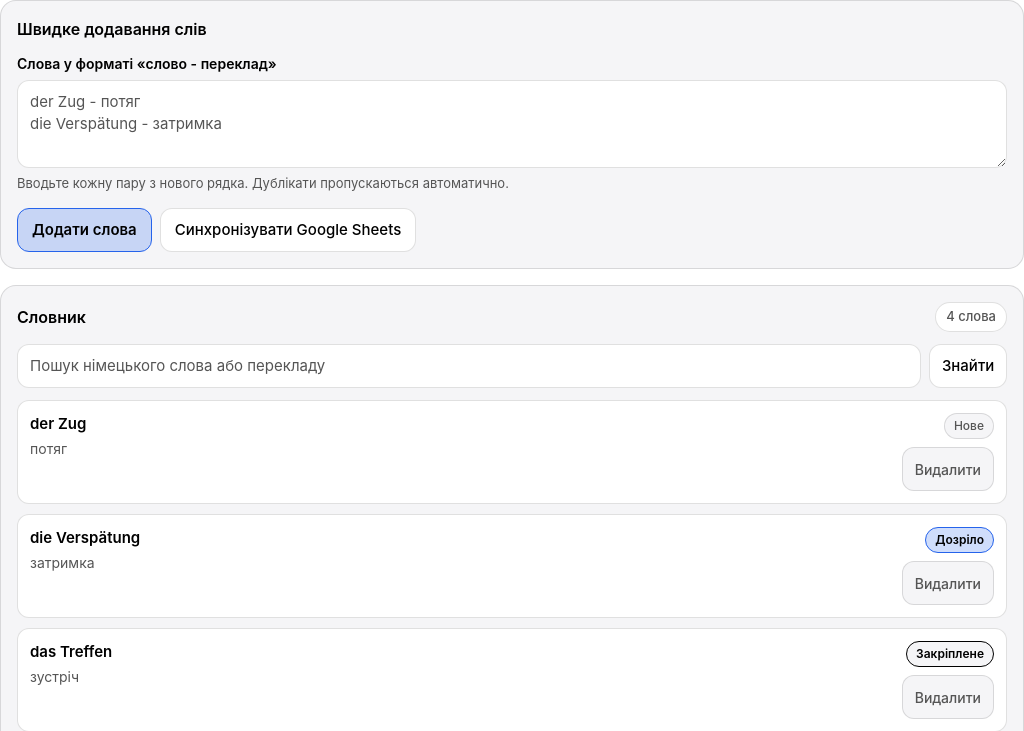
Test case: DictionaryPage › requires confirmation before deleting a word and handles delete success and error safely
Expected: the text "die Verspätung" is shown, left=30, top=527, right=140, bottom=550
Clicking Delete opens confirmation without sending DELETE yet
Click the button with aria-label "Видалити слово «die Verspätung»" at (948, 583), box left=902, top=561, right=994, bottom=605
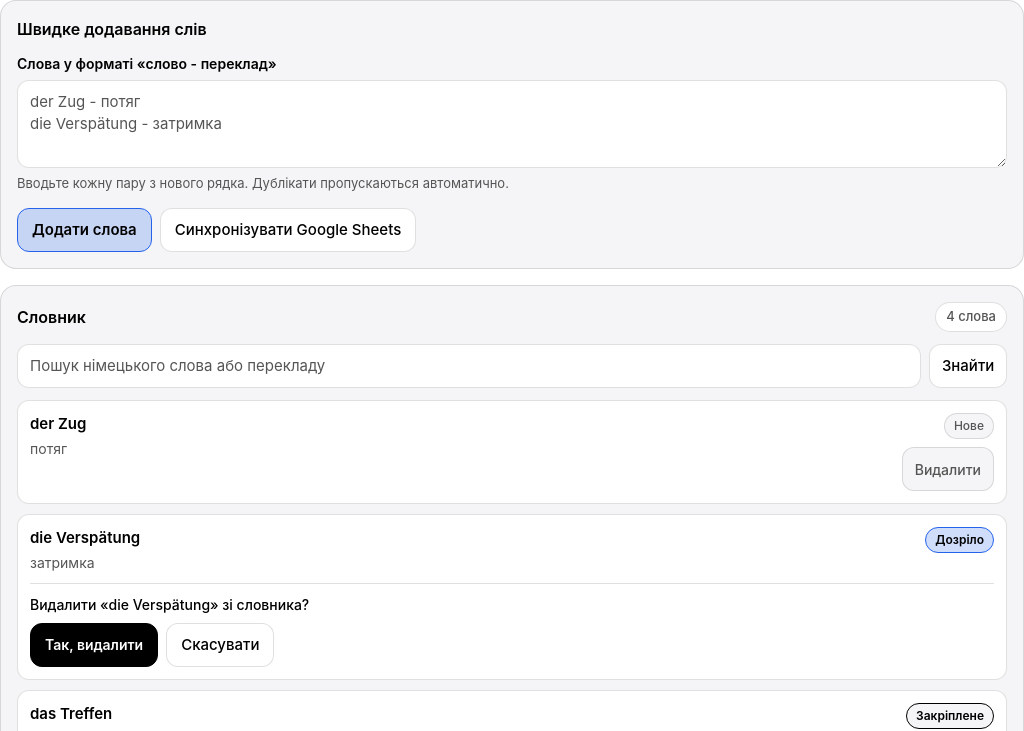
Expected: the text "Видалити «die Verspätung» зі словника?" is shown, left=30, top=596, right=309, bottom=612
Cancel closes confirmation without deleting
Click the button "Скасувати" at (220, 645), box left=166, top=622, right=274, bottom=667
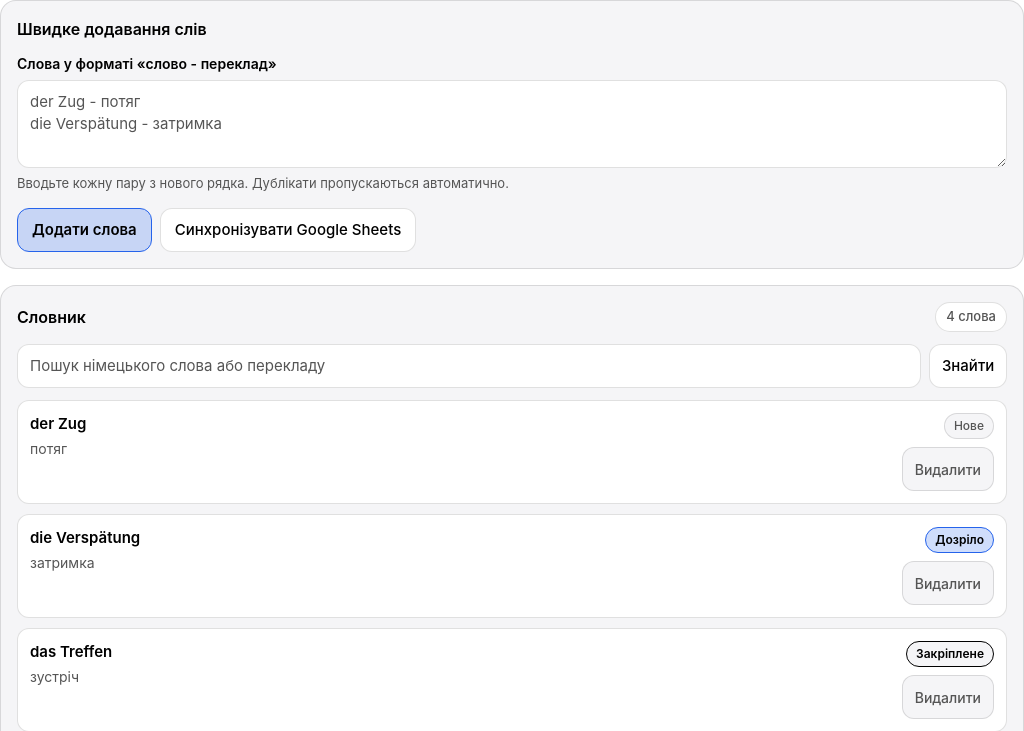
Expected: the text "Видалити «die Verspätung» зі словника?" is gone
Click the button with aria-label "Видалити слово «die Verspätung»" at (948, 583), box left=902, top=561, right=994, bottom=605
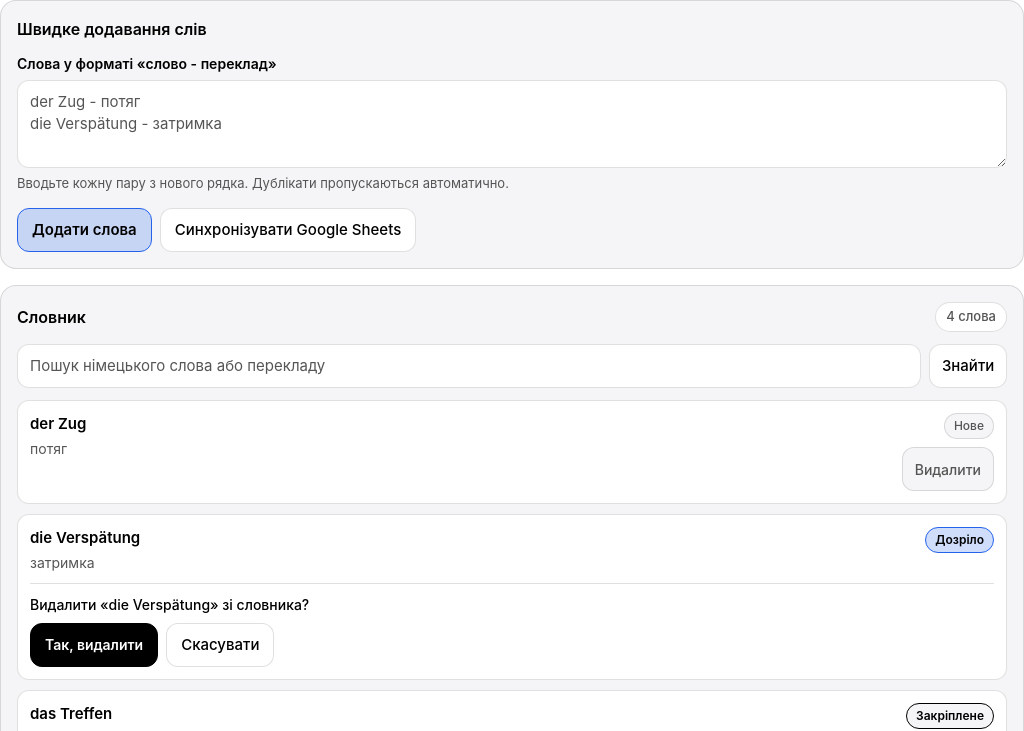
Click the button with aria-label "Підтвердити видалення слова «die Verspätung»" at (94, 645), box left=30, top=622, right=158, bottom=667
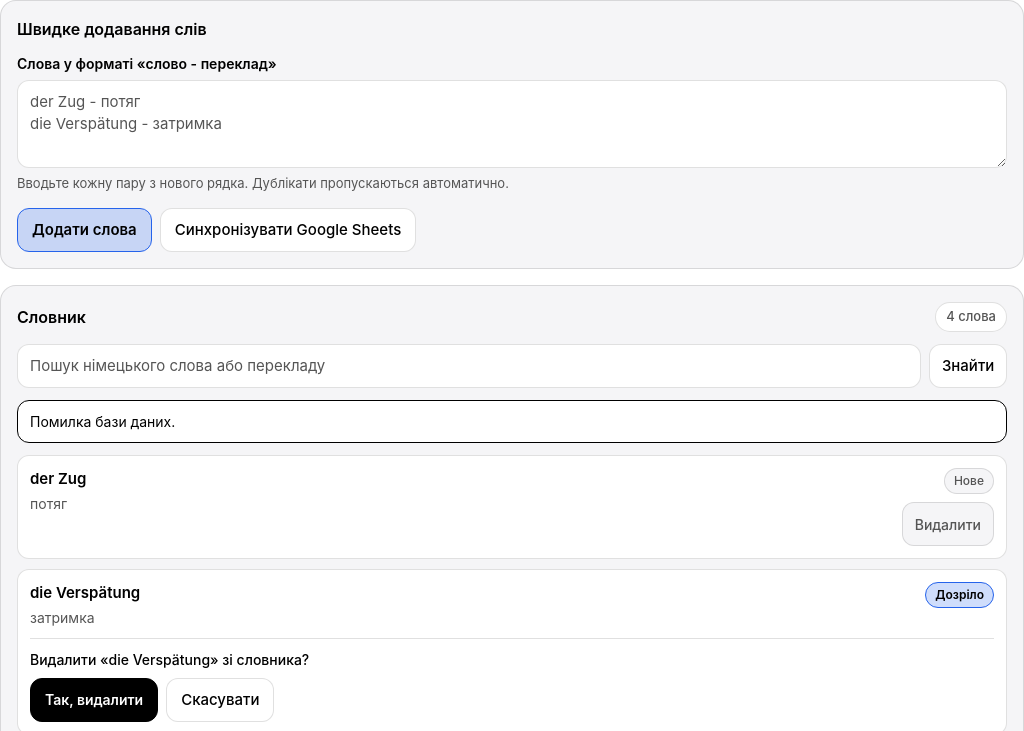
Expected: the text "die Verspätung" is shown, left=30, top=582, right=140, bottom=604
Expected: the message reads "Помилка бази даних.", left=30, top=413, right=175, bottom=430
Click the button with aria-label "Підтвердити видалення слова «die Verspätung»" at (94, 700), box left=30, top=678, right=158, bottom=722
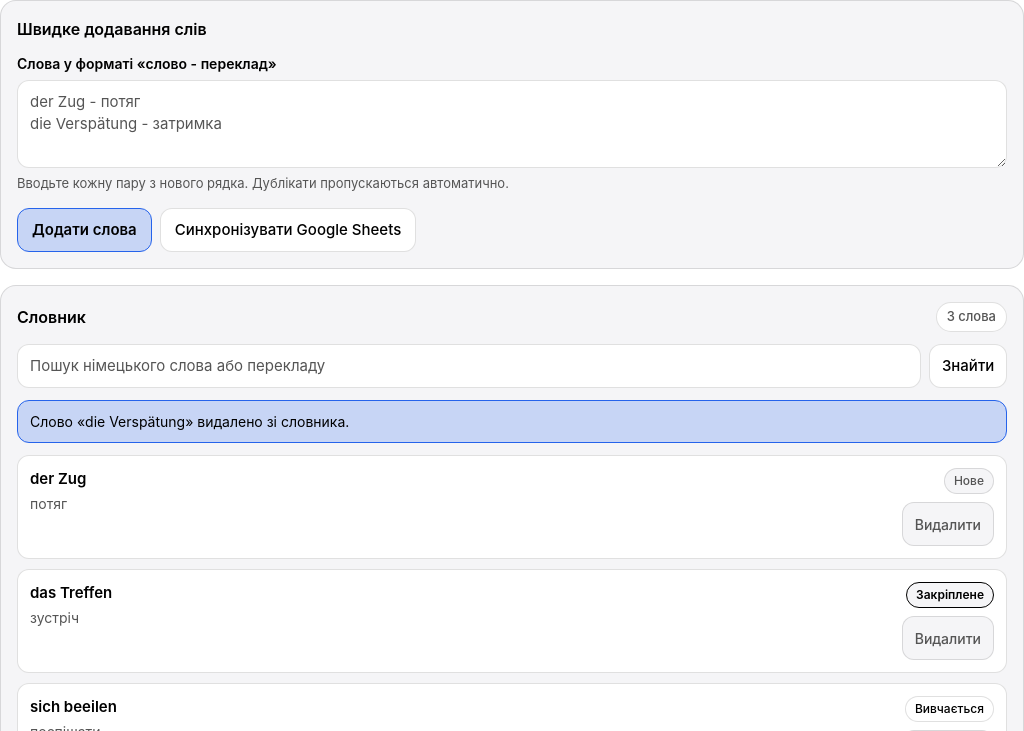
Expected: the text "3 слова" is shown, left=936, top=302, right=1007, bottom=332
Expected: the text "Слово «die Verspätung» видалено зі словника." is shown, left=17, top=400, right=1007, bottom=443
